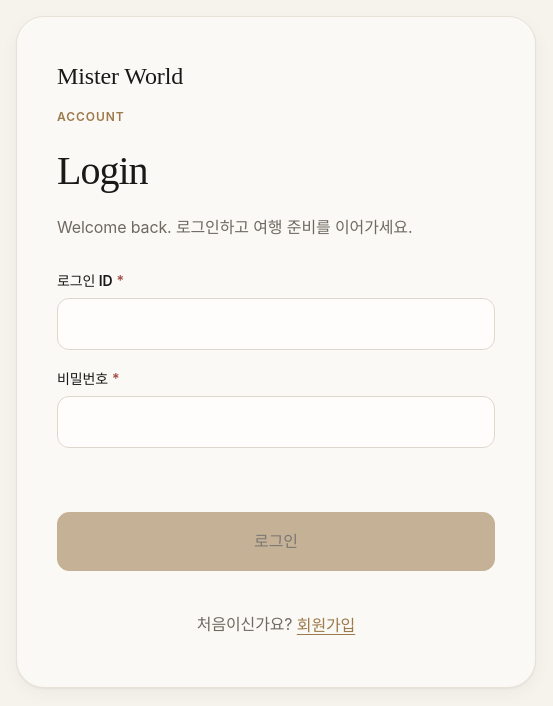
LoginPage › does not consume ReturnContext when authentication fails
Expected: the heading "Login" is shown, left=57, top=148, right=148, bottom=193
Type "customer-01" into the field labelled "로그인 ID" at (276,324), box left=57, top=298, right=495, bottom=350
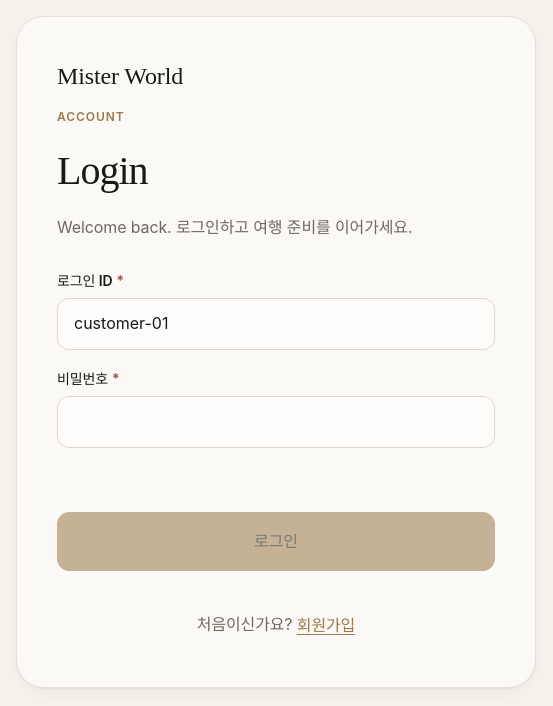
Type "secret-input" into the password field labelled "비밀번호 *" at (276,422), box left=57, top=396, right=495, bottom=448
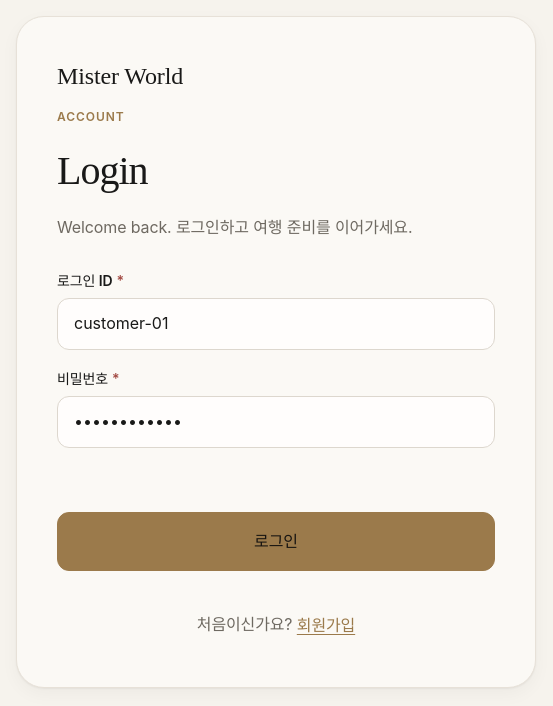
Click the button "로그인" at (276,542), box left=57, top=512, right=495, bottom=571
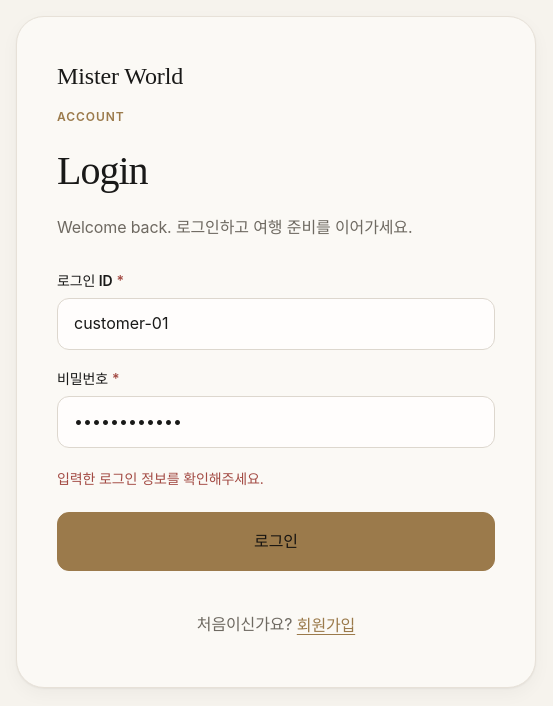
Now the message "입력한 로그인 정보를 확인해주세요." is shown, box left=57, top=470, right=264, bottom=487
